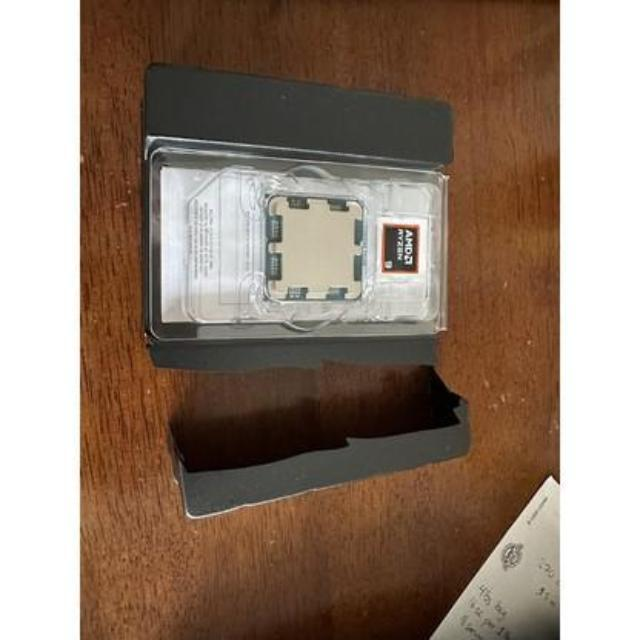CPU: (268, 197, 362, 306)
